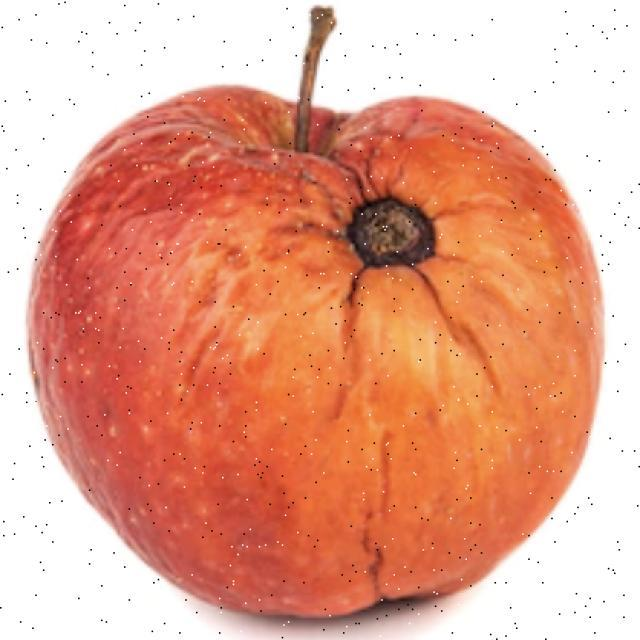Rotten: (63, 85, 620, 602)
